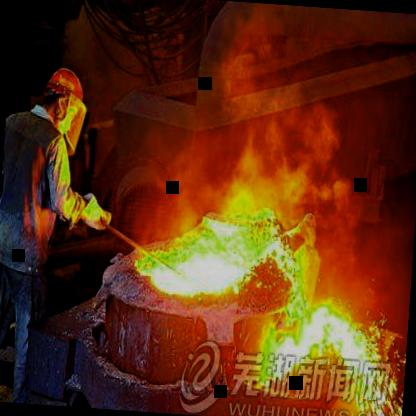helmet: (35, 64, 89, 136)
